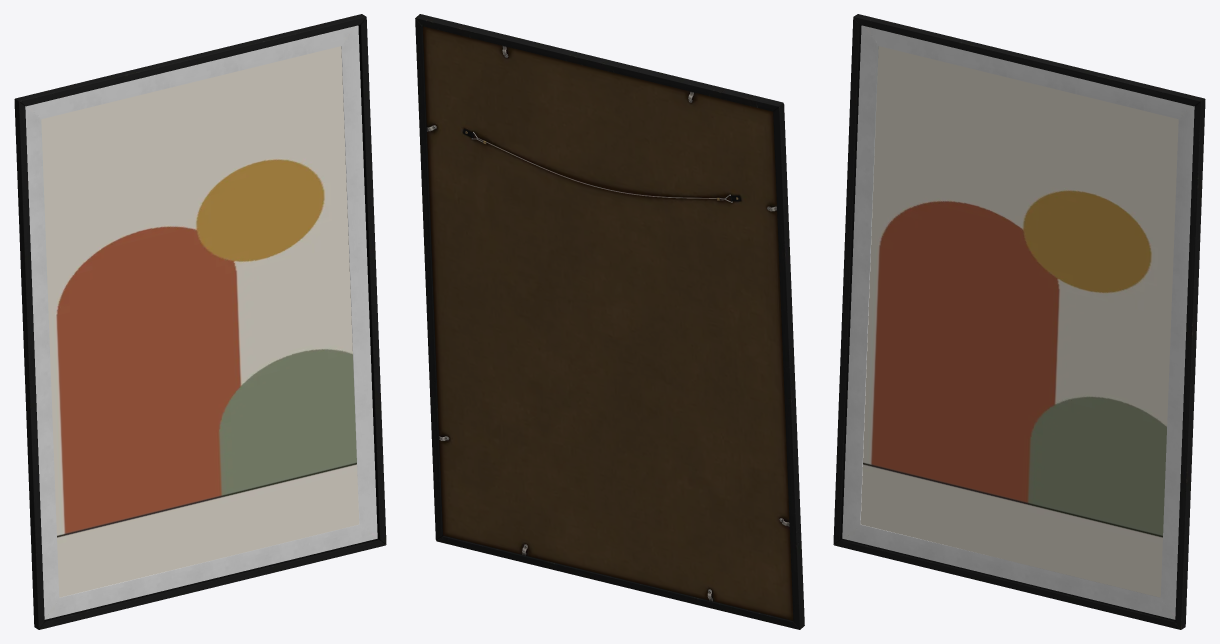
3 views of the same model, side by side, from view 1: azimuth 30°, elevation 25°; view 2: azimuth 150°, elevation 25°; view 3: azimuth 330°, elevation 25° (orthographic). The views are drawn at different scales.
Visible parts, largest first — view 1: hanging_picture_frame_01; view 2: hanging_picture_frame_01; view 3: hanging_picture_frame_01.
Boxes of the visible parts, x1=… form: hanging_picture_frame_01: x1=14, y1=14, x2=386, y2=629; hanging_picture_frame_01: x1=415, y1=14, x2=804, y2=629; hanging_picture_frame_01: x1=833, y1=14, x2=1205, y2=629.
Bounding box in the file's own units: 0.594 × 0.8398 × 0.0725.
2 materials, 2 textured.
